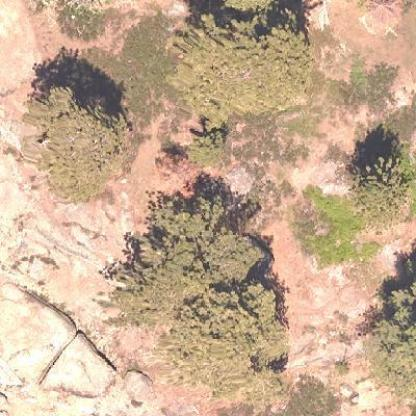tree-top: (116, 194, 304, 382), (6, 68, 138, 206), (170, 6, 317, 126), (351, 270, 415, 398), (349, 142, 415, 223), (182, 128, 231, 168)
